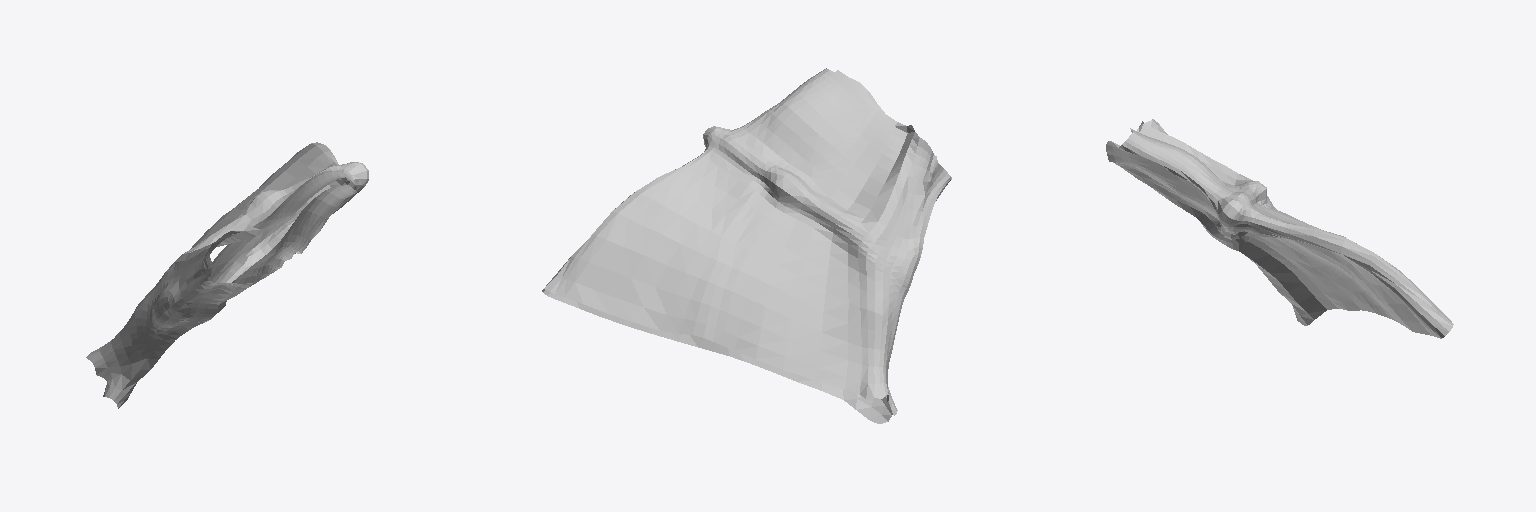
Rendered from AlaD1.obj.
The picture shows the model from 3 angles: view 1: azimuth 30°, elevation 25°; view 2: azimuth 150°, elevation 25°; view 3: azimuth 270°, elevation 25°; orthographic projection.
Visible parts, largest first — view 1: 17174_Tiamat_new.001; view 2: 17174_Tiamat_new.001; view 3: 17174_Tiamat_new.001.
Boxes of the visible parts, x1,y1,x2,y2 form: 17174_Tiamat_new.001: [86, 142, 368, 408]; 17174_Tiamat_new.001: [542, 68, 951, 423]; 17174_Tiamat_new.001: [1106, 119, 1453, 338].
Bounding box in the file's own units: 4.84 × 4.22 × 5.12.